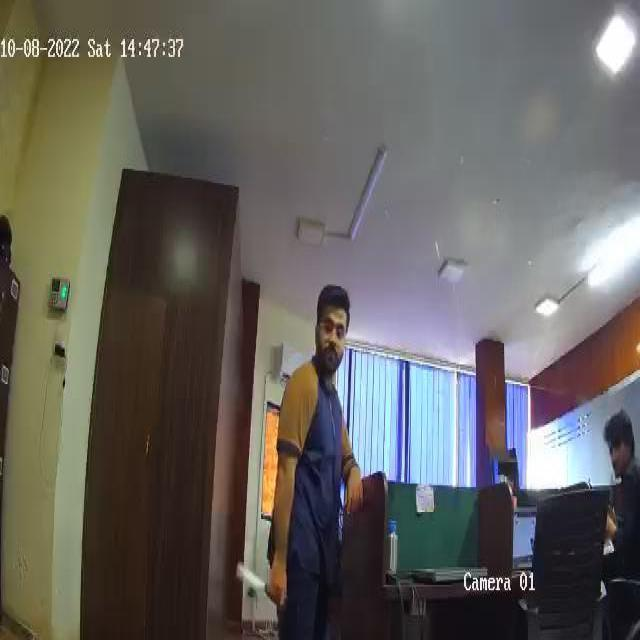Knife: (237, 564, 284, 608)
